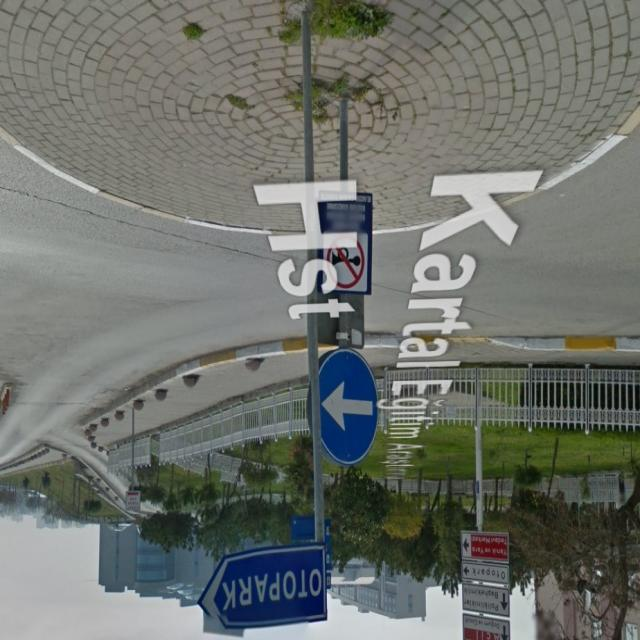Turn Left: (308, 345, 382, 462)
